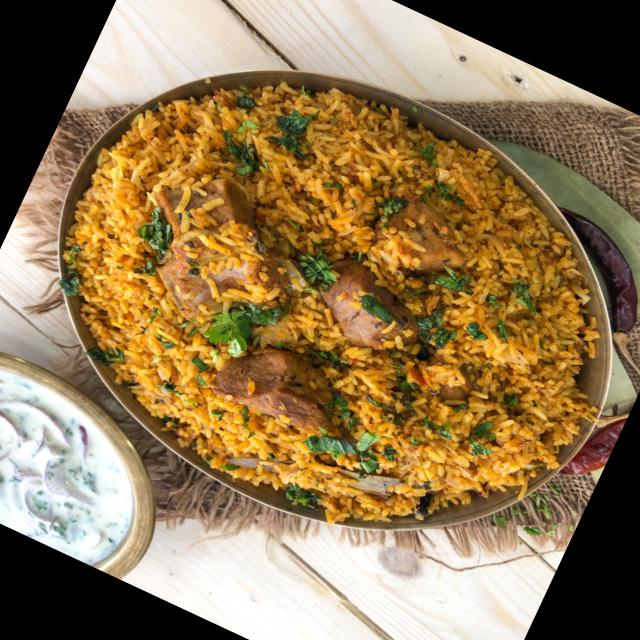Biryani: (1, 8, 640, 598)
